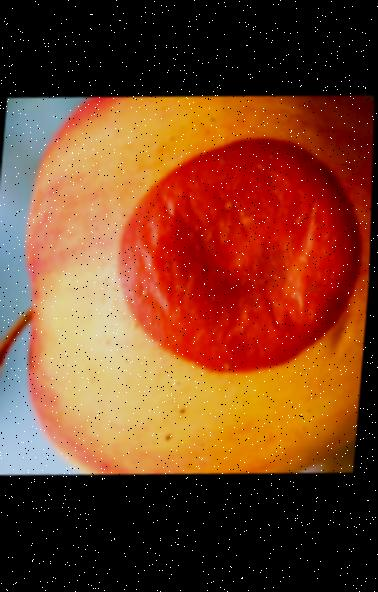ROT: (0, 75, 375, 494)
